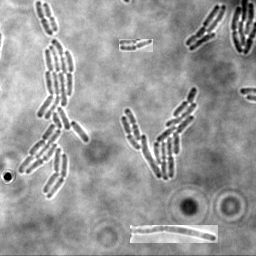Dividing: (130, 225, 218, 243), (34, 1, 52, 37), (41, 3, 57, 33), (119, 39, 153, 52)
Microcolony: (18, 40, 89, 199), (120, 87, 197, 181), (184, 5, 226, 52), (230, 1, 255, 56)
